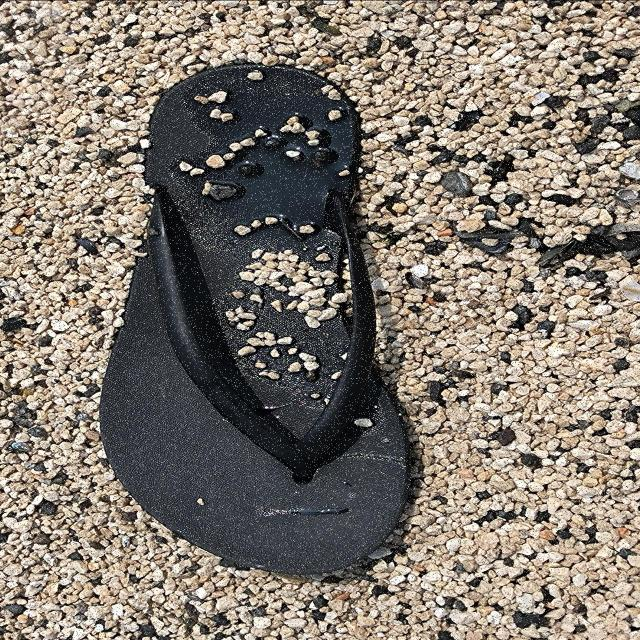rubber_waste: (99, 64, 416, 576)
